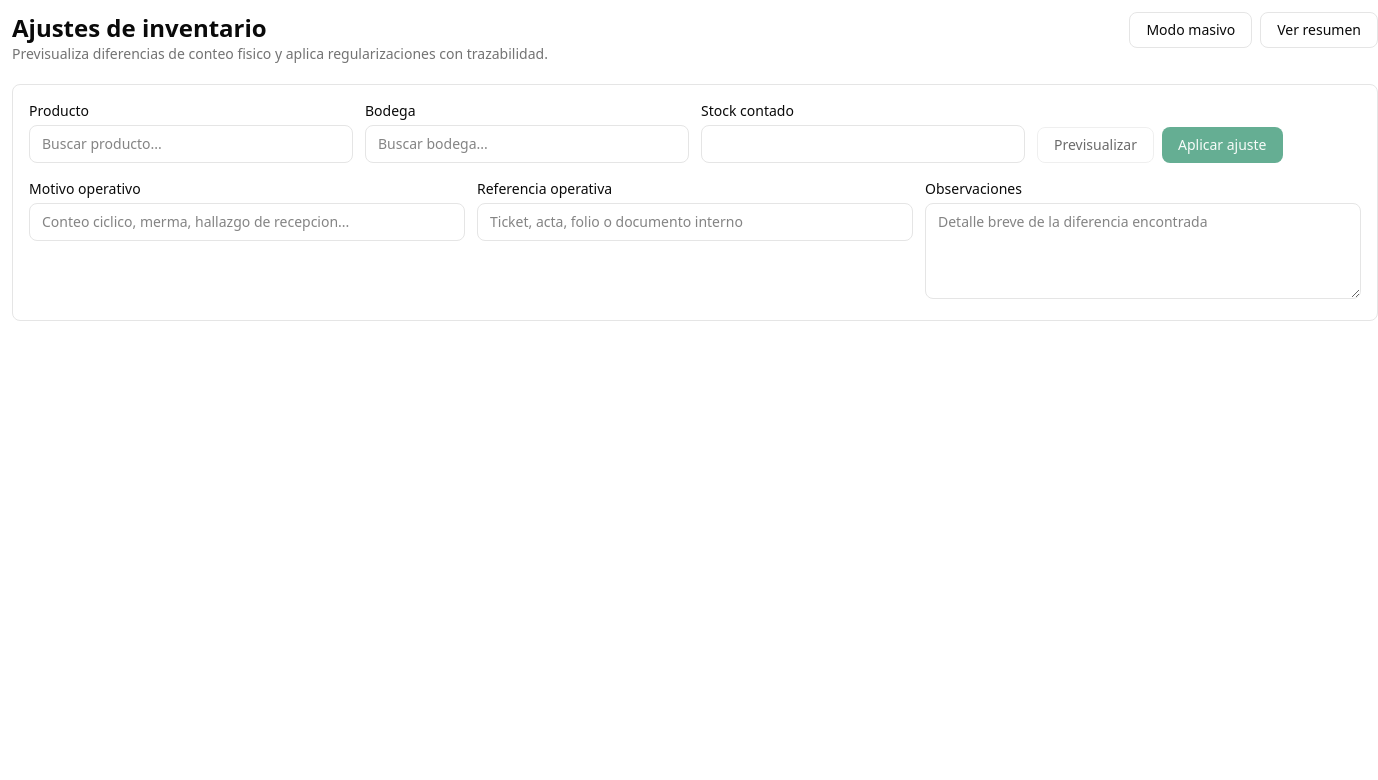
inventario/InventarioAjustesPage › muestra error del contrato API al aplicar un ajuste
Expected: the heading "Ajustes de inventario" is shown, [12,11,267,44]
Type "Moto" into the dropdown named "Producto ajuste" at (191, 144), box [29,125,353,163]
Then press Enter
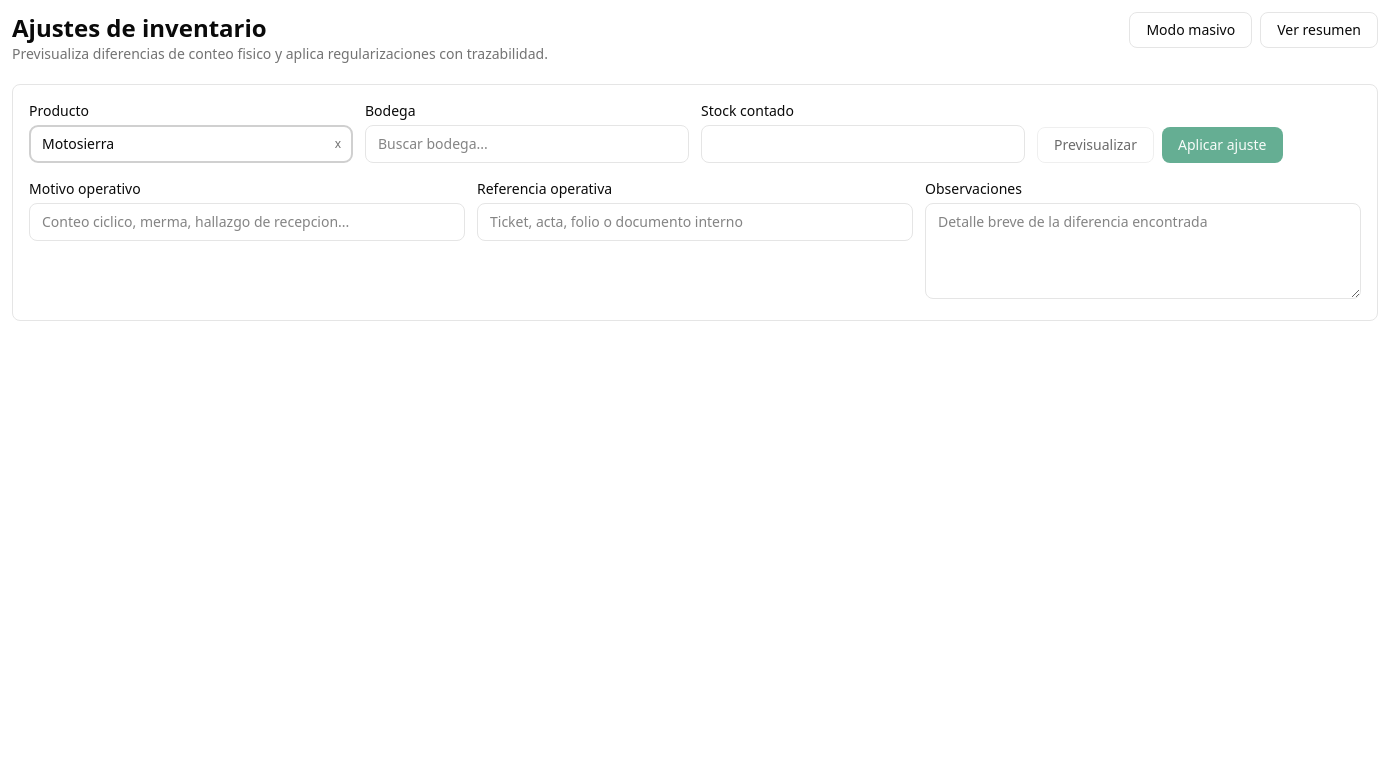
Type "Prin" into the dropdown named "Bodega ajuste" at (527, 144), box [365,125,689,163]
Then press Enter
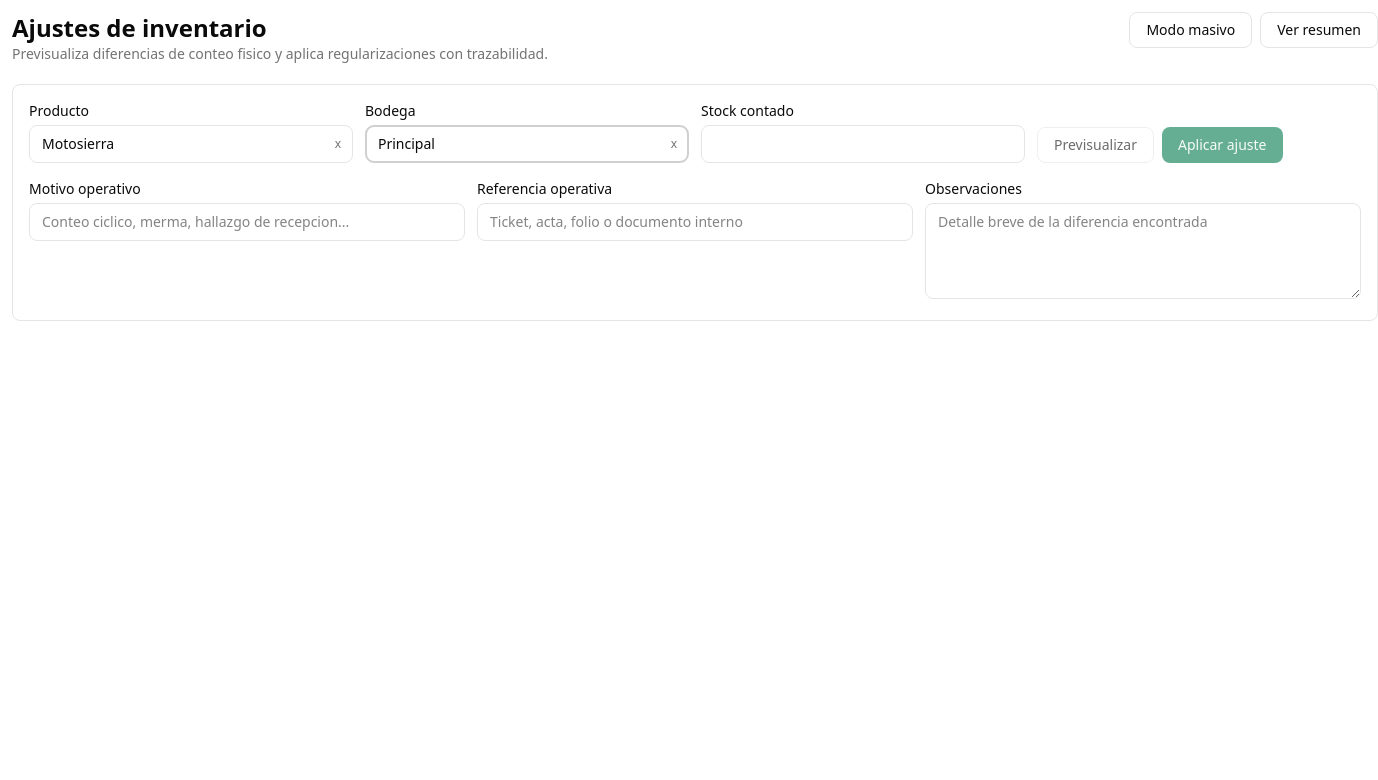
Type "3" into the number field labelled "Stock contado" at (863, 144), box [701,125,1025,163]
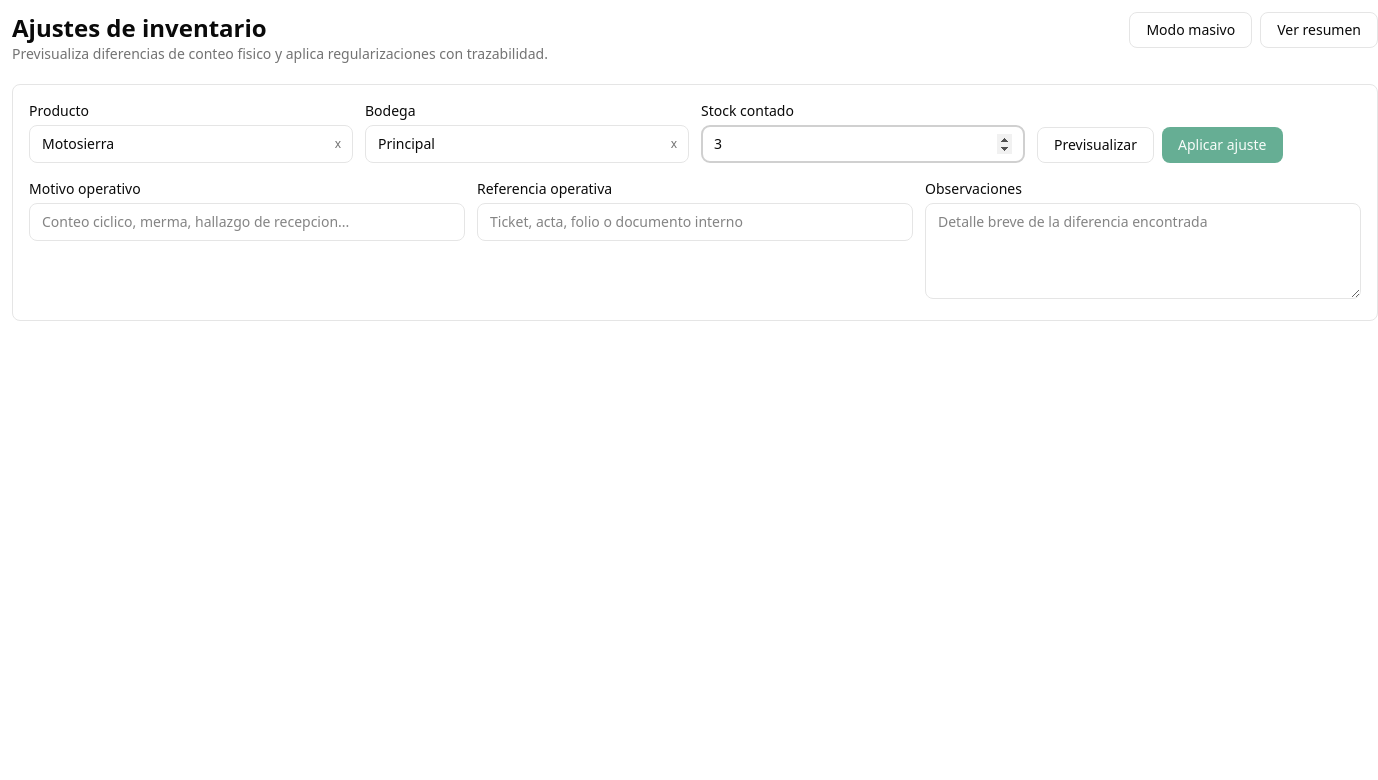
Click the button "Previsualizar" at (1096, 145), box [1037,127,1154,163]
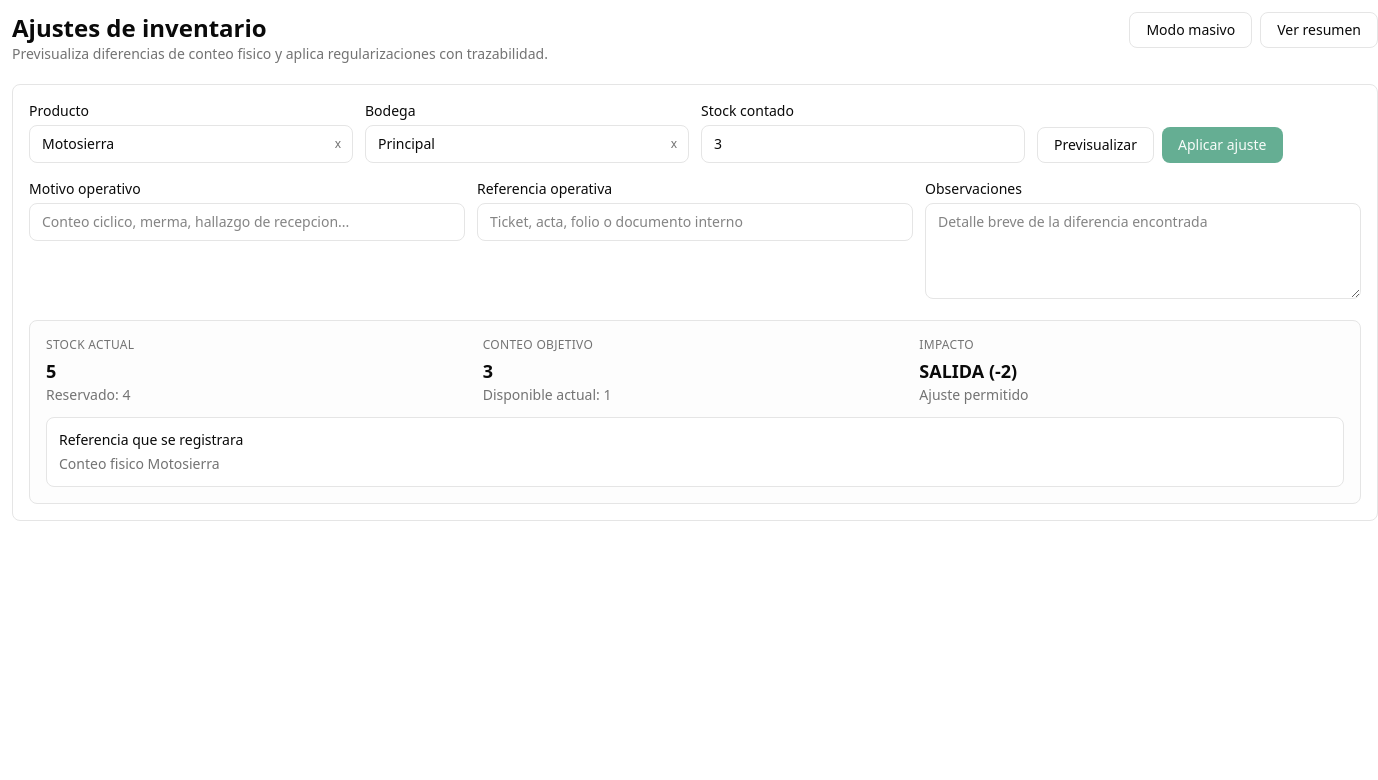
Type "Merma" into the field labelled "Motivo operativo" at (247, 222), box [29,203,465,241]
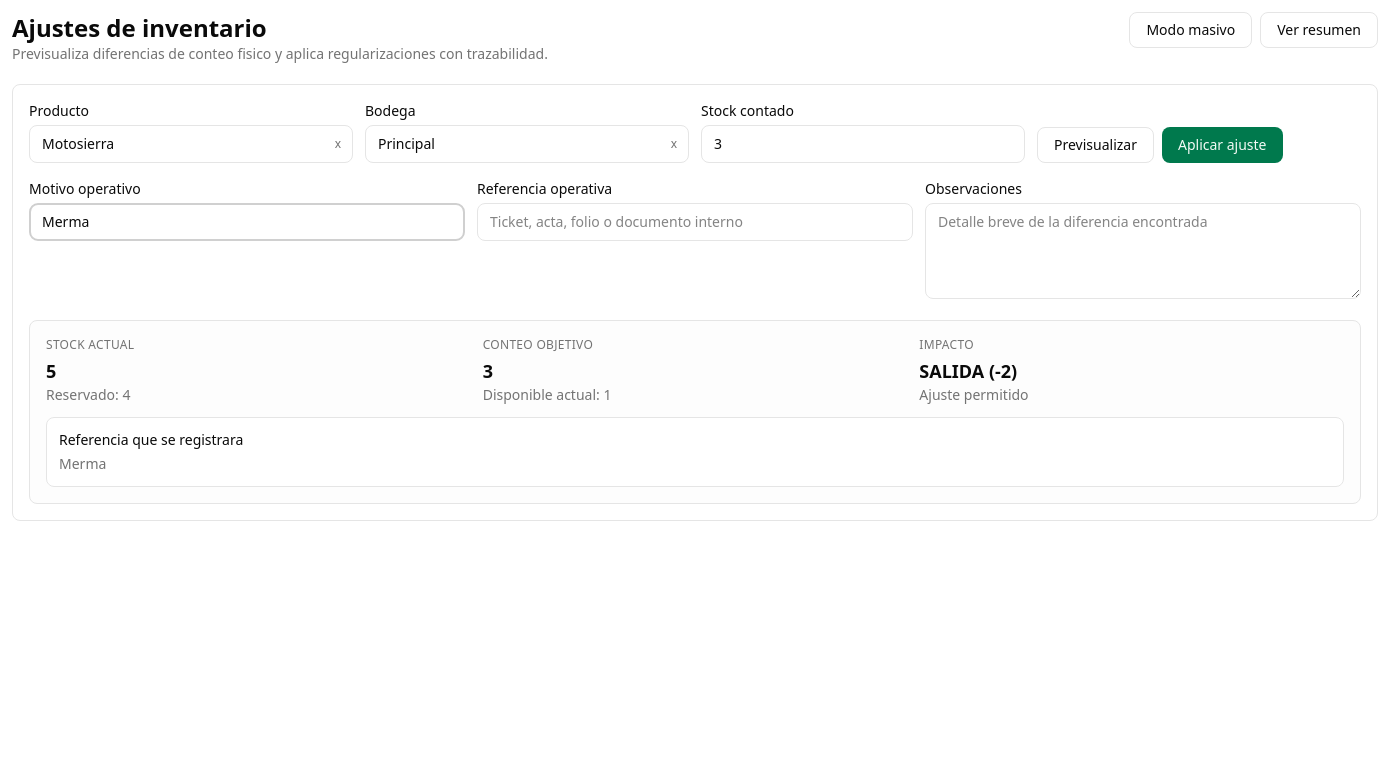
Click the button "Aplicar ajuste" at (1222, 145), box [1162,127,1283,163]
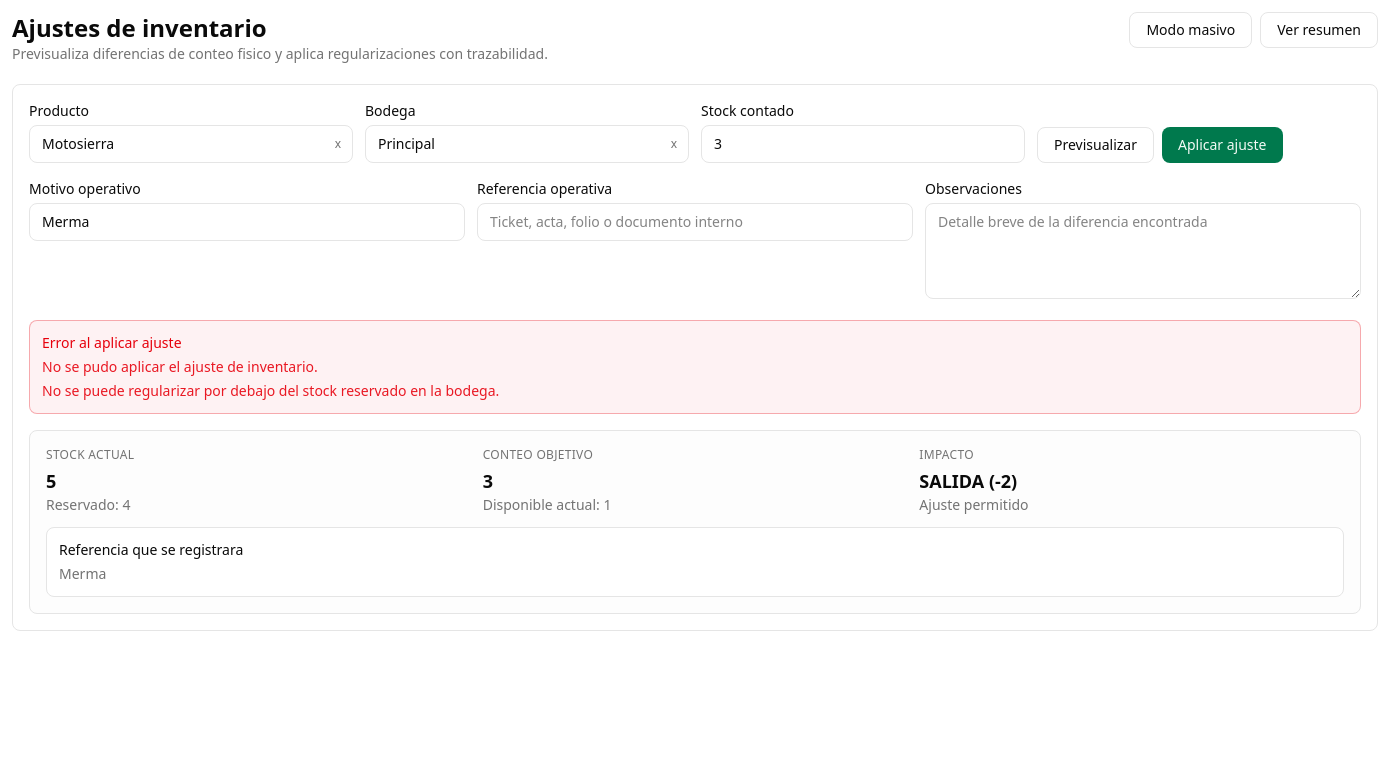
Now the text "Error al aplicar ajuste" is shown, box [42,333,182,352]
Now the text "No se puede regularizar por debajo del stock reservado en la bodega." is shown, box [42,381,499,400]
